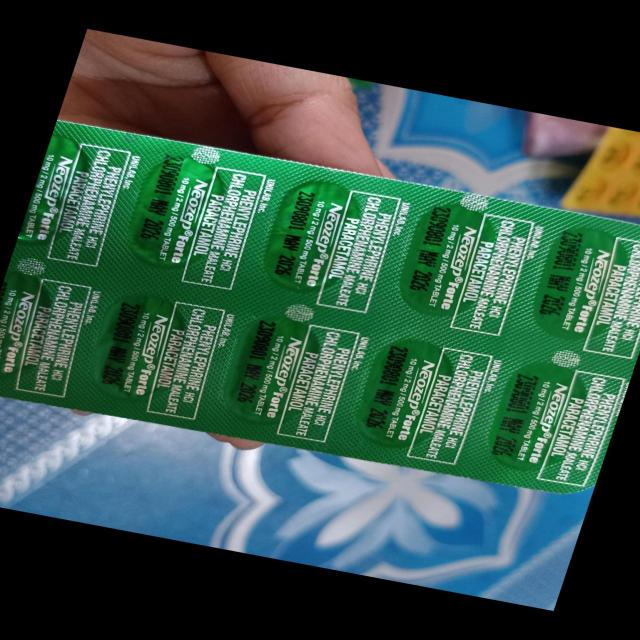Neozep_Strip: (1, 110, 640, 506)
